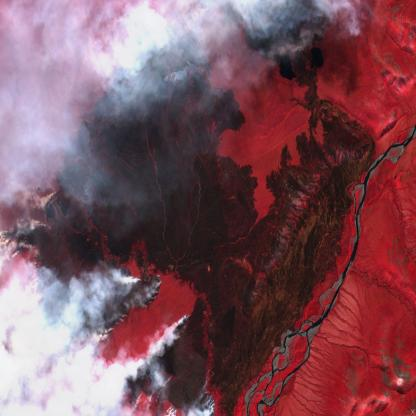fire: (0, 182, 221, 416), (190, 0, 338, 60)
